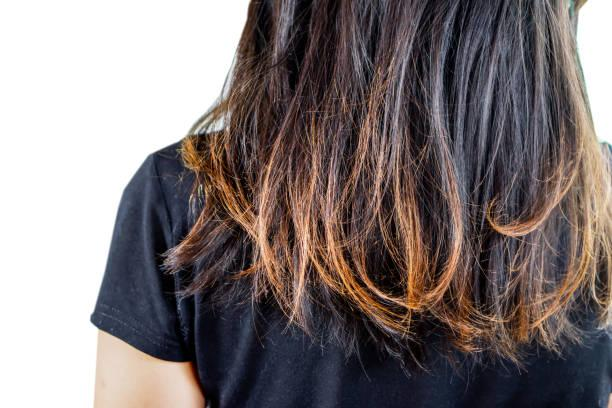dry hair: (342, 144, 449, 335), (472, 142, 583, 312), (236, 117, 319, 339)
